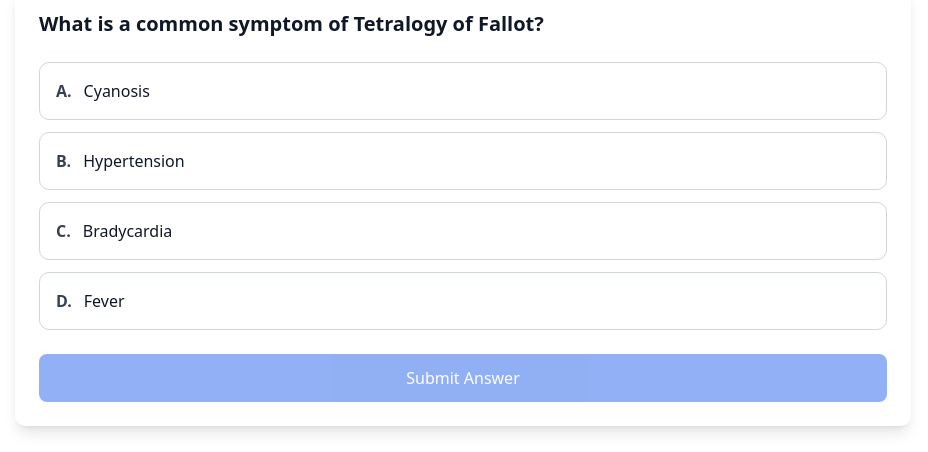
Test case: QuestionCard Component › should enable submit button after selecting an option
The width and height of the screenshot is (928, 452).
Click the text "Cyanosis" at (117,91), box 84,80 -> 150,102
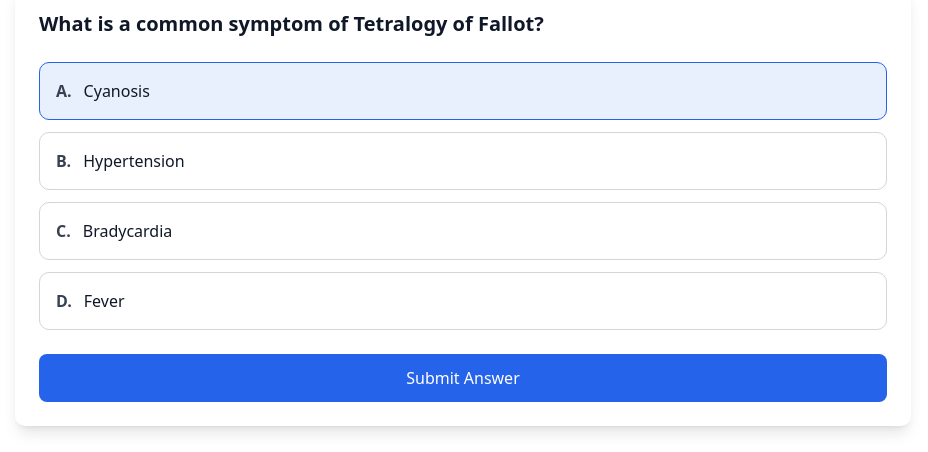
Expected: the button "Submit Answer" is enabled, 39,354 -> 887,402
